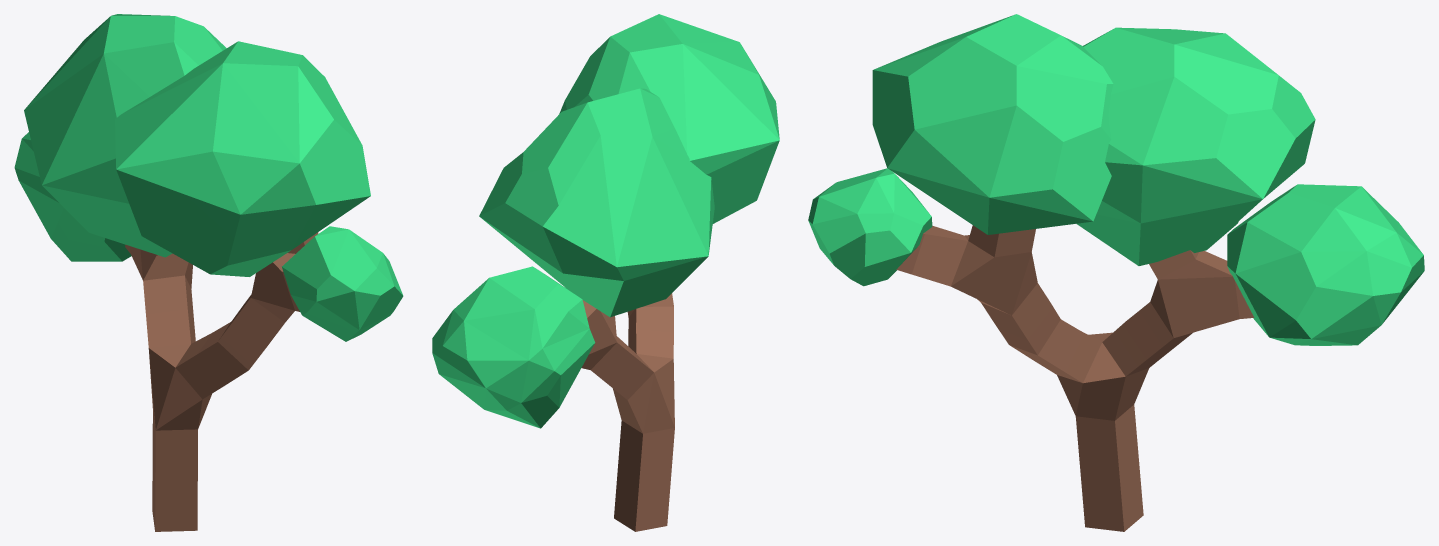
Rendered from tree.fbx.
The picture shows the model from 3 angles, left to right: view 1: azimuth 30°, elevation 25°; view 2: azimuth 150°, elevation 25°; view 3: azimuth 270°, elevation 25°; orthographic projection. The views are drawn at different scales.
Visible parts, largest first — view 1: Tree; view 2: Tree; view 3: Tree.
Boxes of the visible parts, x1,y1,x2,y2 form: Tree: (14,14,403,531); Tree: (432,14,779,531); Tree: (808,14,1424,531).
Size of the model in its own units: 320 by 644 by 703.
